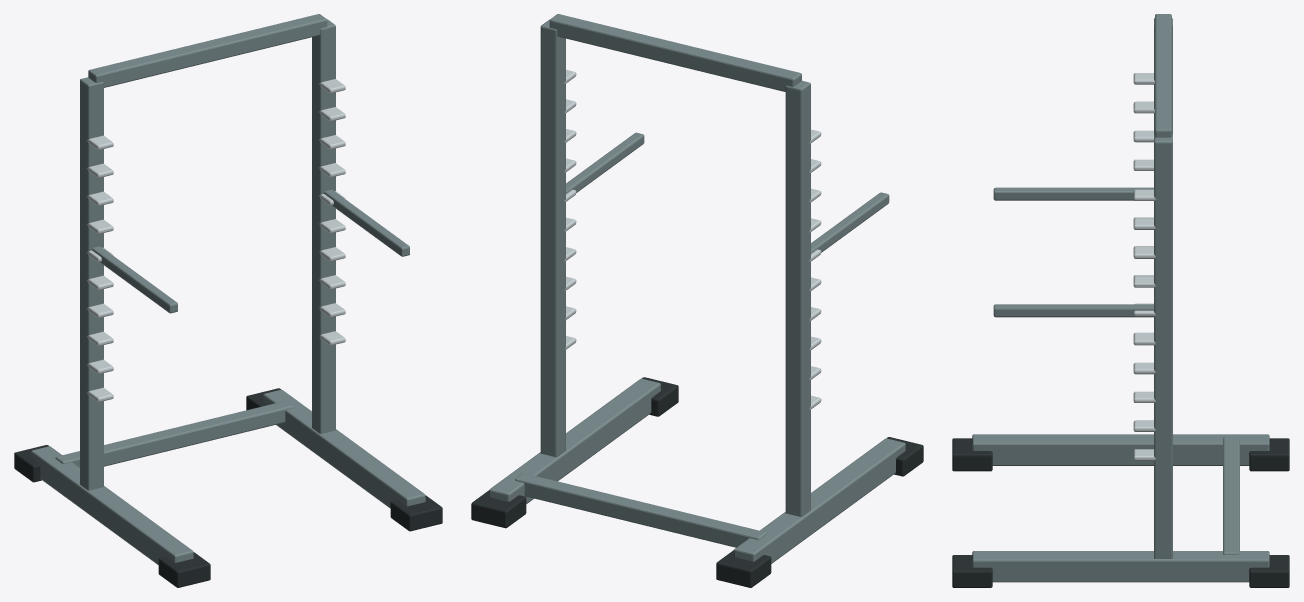
The model's file is squat-rack.v1.glb.
3 views of the same model, side by side, from view 1: azimuth 30°, elevation 25°; view 2: azimuth 150°, elevation 25°; view 3: azimuth 270°, elevation 25° (orthographic). The views are drawn at different scales.
Parts seen in each view (by area): view 1: Base crossmember, J hook, Floor shoe; view 2: Base crossmember, Floor shoe, J hook; view 3: Base crossmember, Floor shoe, J hook.
Part boxes in pixels (left/top/right/bottom): Base crossmember: left=31, top=14, right=425, bottom=564; J hook: left=86, top=79, right=345, bottom=402; Floor shoe: left=14, top=388, right=442, bottom=587; Base crossmember: left=489, top=14, right=905, bottom=563; Floor shoe: left=471, top=377, right=923, bottom=587; J hook: left=564, top=69, right=821, bottom=409; Base crossmember: left=972, top=14, right=1269, bottom=582; Floor shoe: left=952, top=438, right=1289, bottom=587; J hook: left=1133, top=73, right=1155, bottom=460.
Size of the model in its own units: 1.49 by 2.34 by 1.59.
